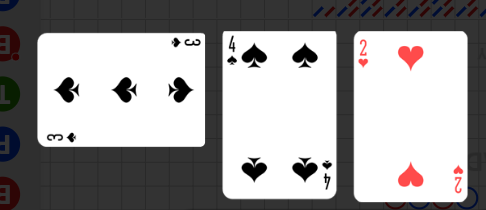2H: (451, 163, 464, 194)
3S: (45, 130, 79, 144)
4S: (226, 34, 239, 67)
